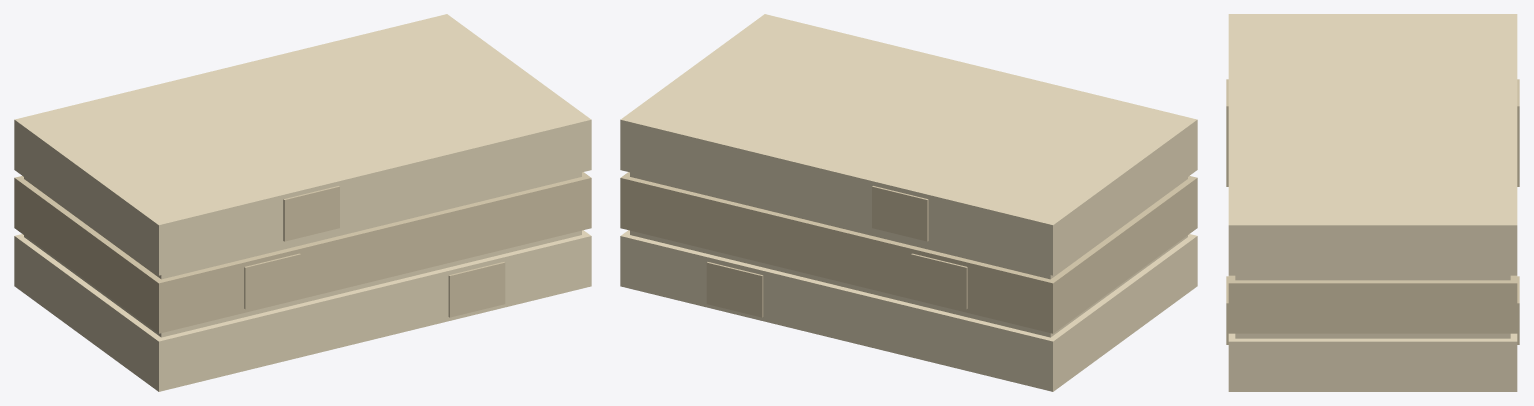
The model's file is mumia_cintura.glb.
The picture shows the model from 3 angles, left to right: view 1: azimuth 30°, elevation 25°; view 2: azimuth 150°, elevation 25°; view 3: azimuth 270°, elevation 25°; orthographic projection.
Visible parts, largest first — view 1: mumia_cintura; view 2: mumia_cintura; view 3: mumia_cintura.
Part boxes in pixels (x1,y1,x2,y2): mumia_cintura: (14, 14, 591, 391); mumia_cintura: (620, 14, 1197, 391); mumia_cintura: (1226, 14, 1519, 391).
Size of the model in its own units: 0.545 by 0.2007 by 0.32.
